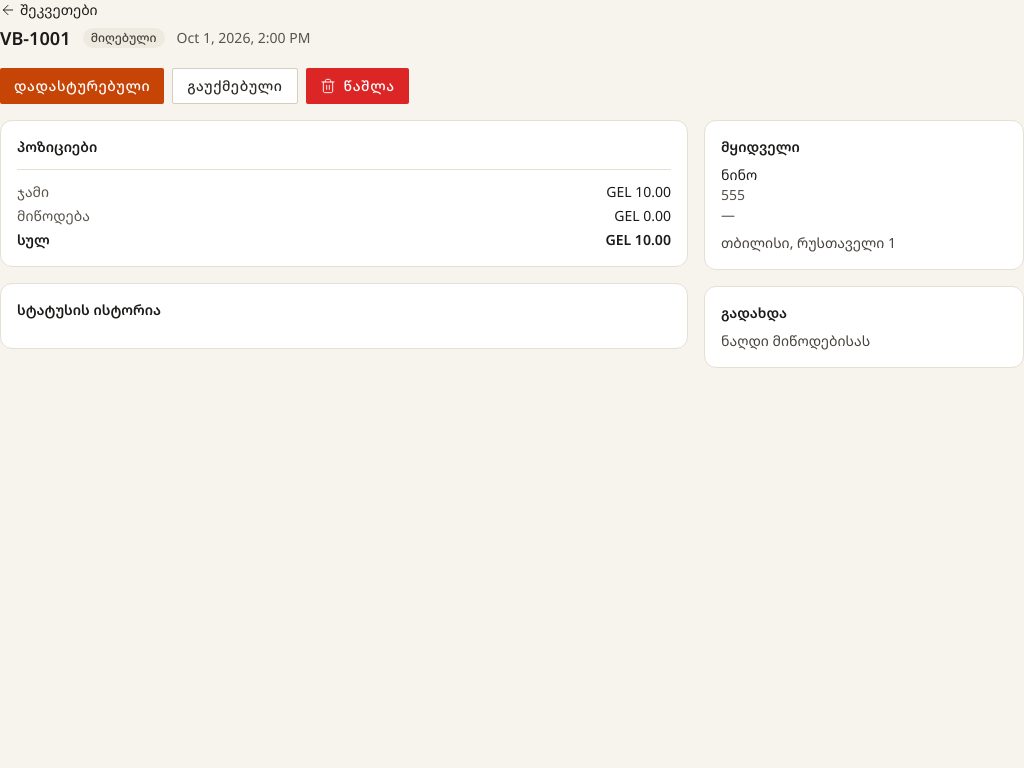
Scenario: OrderDetail status change on a trashed order › shows ORDER_IN_TRASH and keeps the buttons enabled
Click the button "დადასტურებული": click(82, 86) [0,68,164,104]
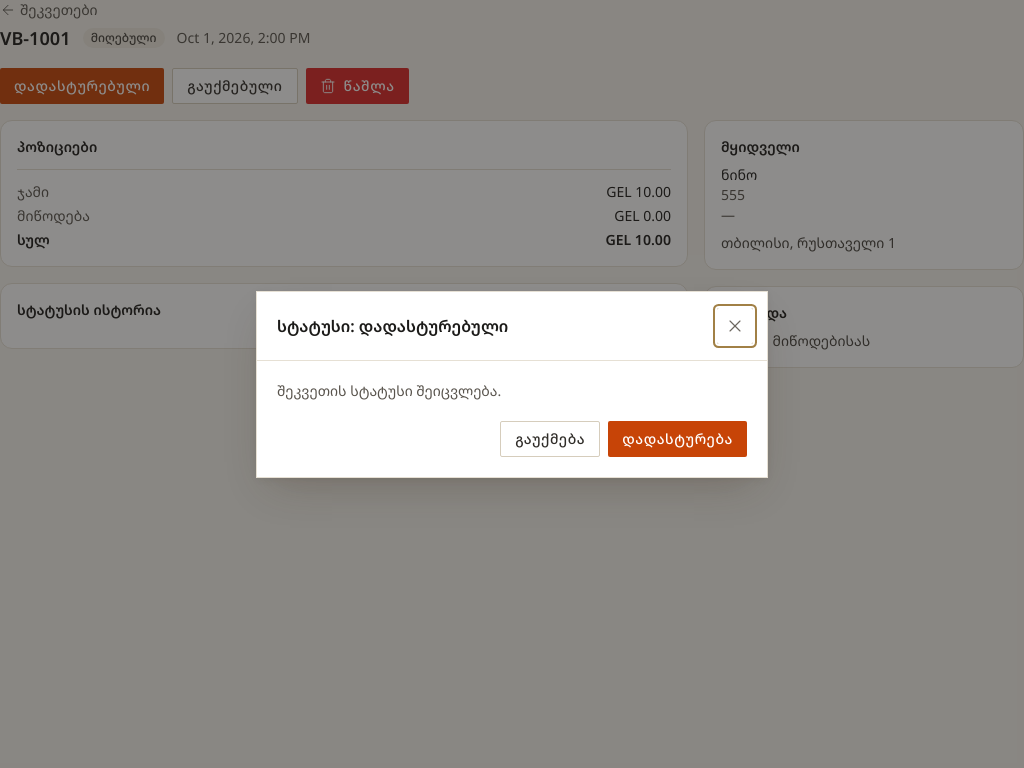
Click the button "დადასტურება": click(678, 438) [608,420,747,456]
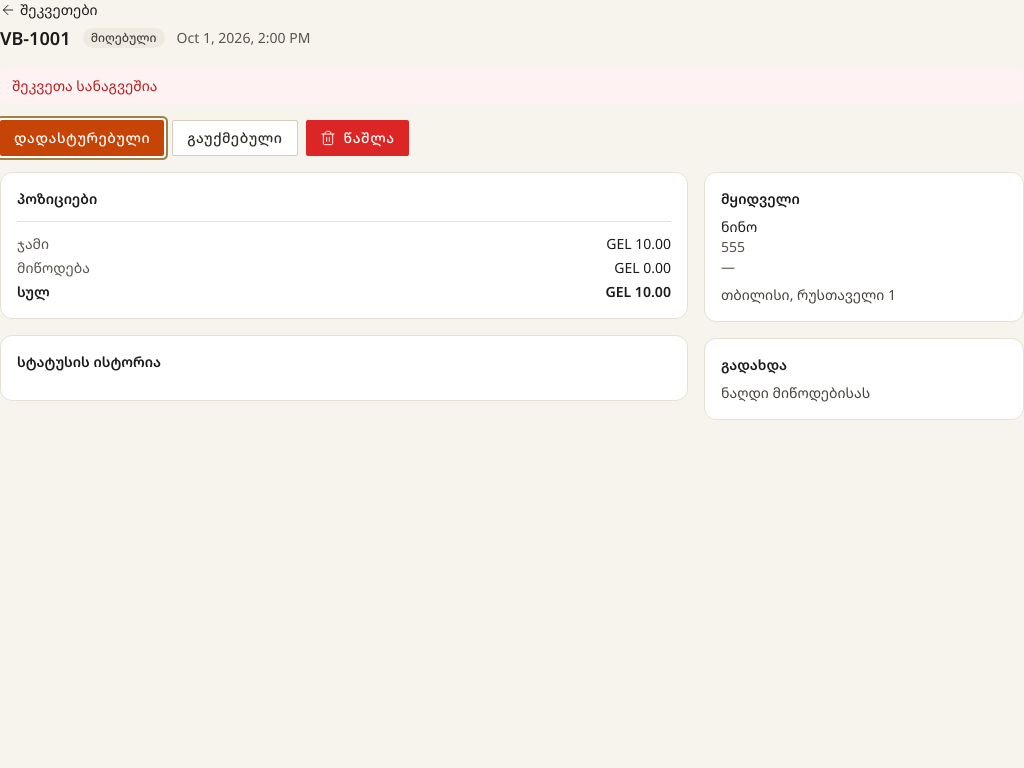
Expected: the button "დადასტურებული" is enabled, [0,120,164,156]
Now the message reads "შეკვეთა სანაგვეშია", box [12,76,158,95]
